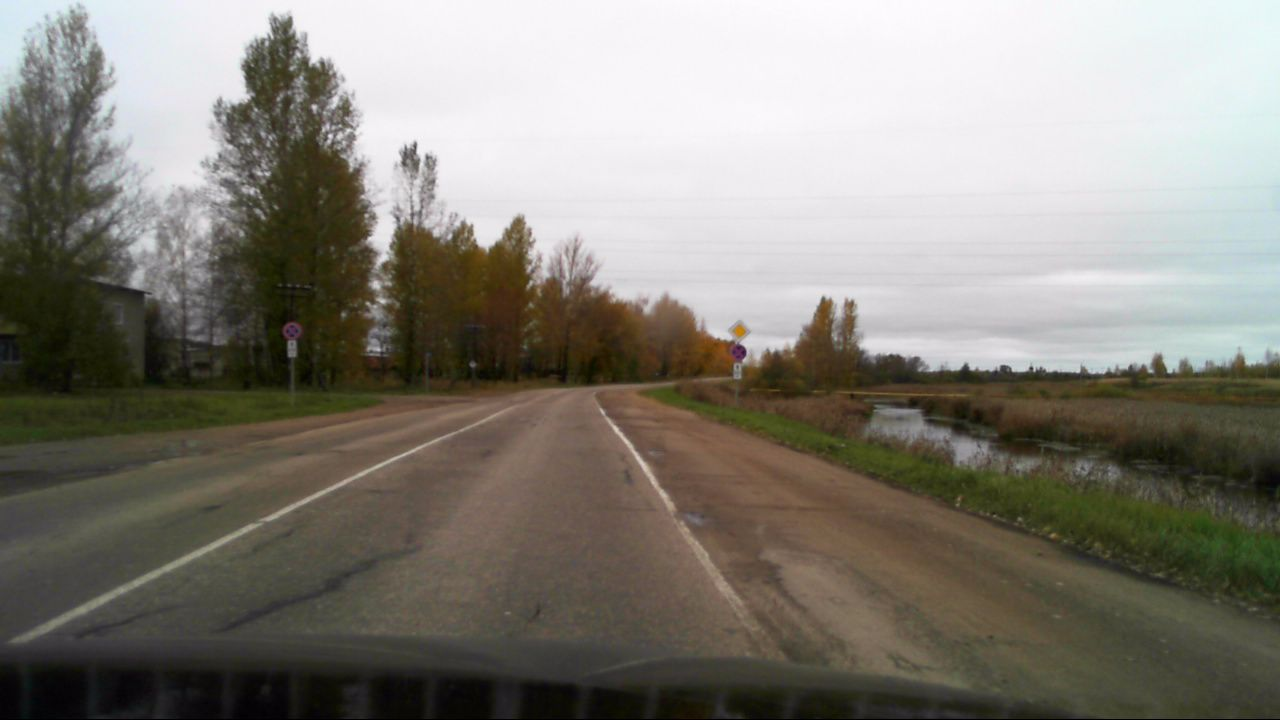No Parking: (730, 344, 747, 360)
